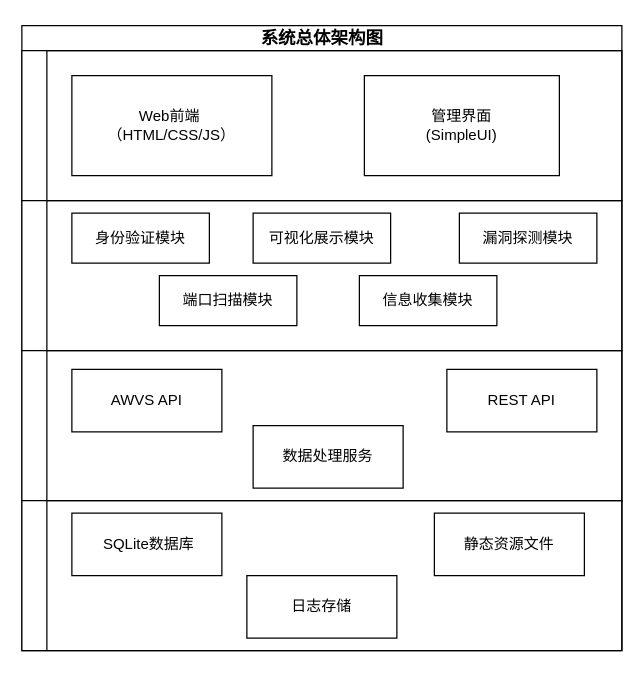
This 644x673 diagram has some shape labels left out. The box of each missing label's shape, as (x1, y1, x2, y2) in pixels:
应用层: (21, 199, 622, 351)
数据层: (21, 499, 622, 651)
服务层: (21, 349, 622, 501)
表示层: (21, 49, 622, 201)
